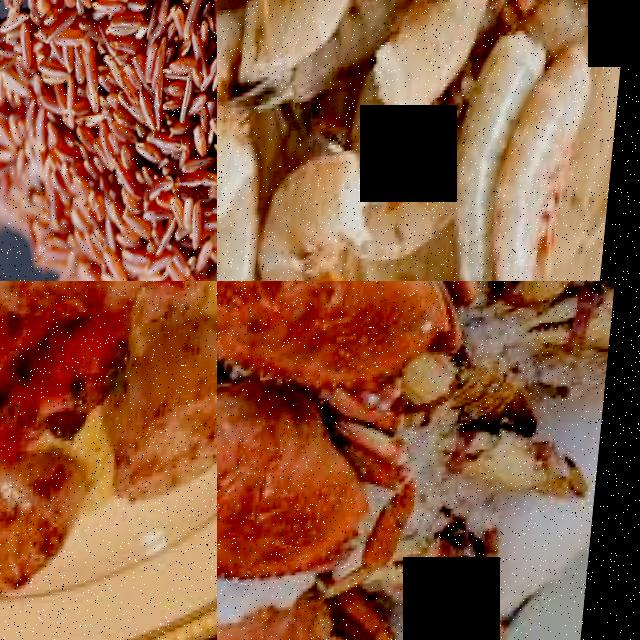crab: (217, 382, 410, 589), (217, 281, 464, 407), (473, 417, 600, 515), (217, 611, 389, 640), (522, 281, 589, 322)
red rice: (0, 0, 217, 281)
sea scallops: (118, 332, 217, 512)
spinach: (494, 54, 606, 281), (368, 0, 509, 131), (255, 150, 381, 281), (230, 0, 375, 80), (217, 13, 258, 230)
